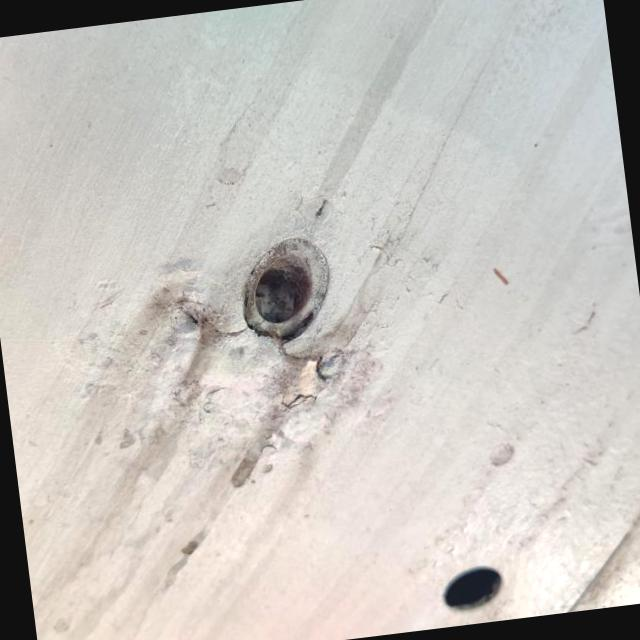Missing Fastener: (235, 233, 337, 343), (426, 552, 509, 618)
